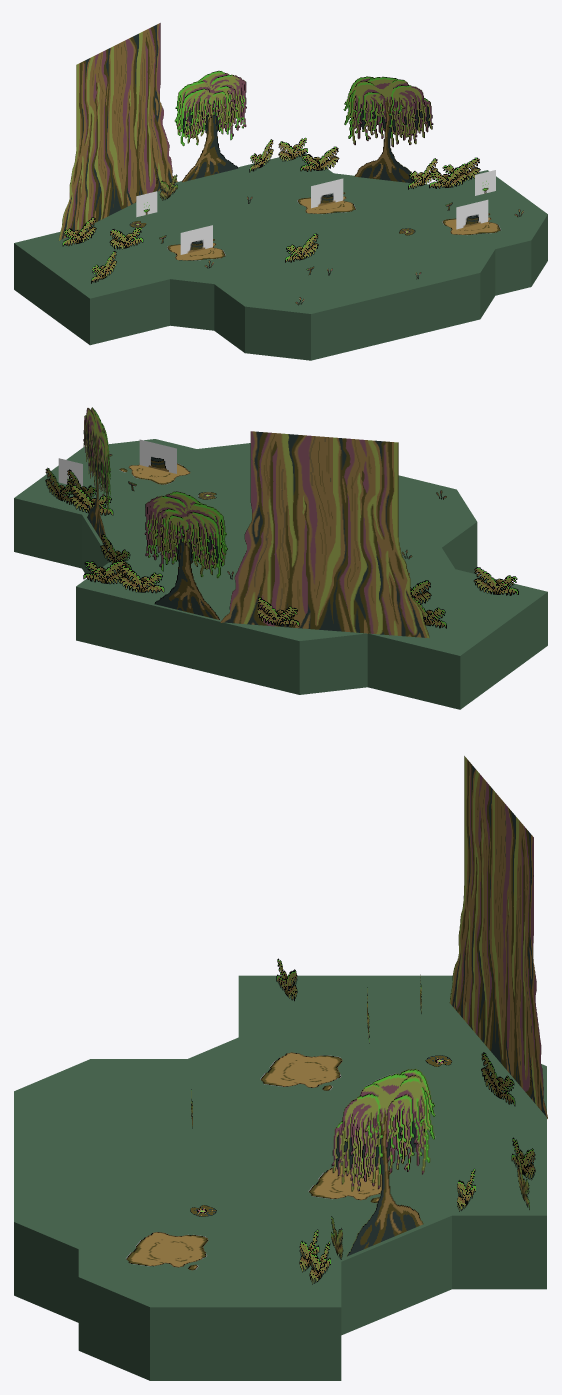
The model's file is Nivel4.fbx.
The picture shows the model from 3 angles, top to bottom: view 1: azimuth 30°, elevation 25°; view 2: azimuth 150°, elevation 25°; view 3: azimuth 270°, elevation 25°; orthographic projection. The views are drawn at different scales.
Visible parts, largest first — view 1: Base.005, Sequoia.002, Arbol 1.003, Arbol 2.003, Barril 1.008, Barril 1.010, Barril 1.009, Helecho.036, Barro 1.010, Barro 1.009, Barro 1.008, Helecho.035 (+7 smaller); view 2: Base.005, Sequoia.002, Arbol 2.003, Arbol 1.003, Barril 1.009, Helecho.054, Helecho.038, Barro 1.009, Helecho.040, Helecho.037, Helecho.034, Flor curativa.010 (+3 smaller); view 3: Base.005, Sequoia.002, Arbol 1.003, Barro 1.010, Barro 1.009, Barro 1.008, Helecho.039.
Part boxes in pixels (left/top/right/bottom): Base.005: left=14, top=153, right=547, bottom=360; Sequoia.002: left=58, top=23, right=177, bottom=240; Arbol 1.003: left=343, top=76, right=433, bottom=182; Arbol 2.003: left=174, top=70, right=246, bottom=182; Barril 1.008: left=311, top=178, right=343, bottom=208; Barril 1.010: left=180, top=225, right=212, bottom=254; Barril 1.009: left=456, top=199, right=488, bottom=229; Helecho.036: left=300, top=146, right=339, bottom=171; Barro 1.010: left=167, top=239, right=225, bottom=260; Barro 1.009: left=442, top=213, right=500, bottom=235; Barro 1.008: left=297, top=192, right=355, bottom=214; Helecho.035: left=429, top=163, right=468, bottom=188; Base.005: left=14, top=439, right=547, bottom=709; Sequoia.002: left=220, top=431, right=429, bottom=638; Arbol 2.003: left=144, top=491, right=227, bottom=619; Arbol 1.003: left=83, top=407, right=110, bottom=546; Barril 1.009: left=139, top=439, right=176, bottom=473; Helecho.054: left=473, top=567, right=518, bottom=595; Helecho.038: left=118, top=565, right=164, bottom=593; Barro 1.009: left=119, top=463, right=190, bottom=484; Helecho.040: left=257, top=597, right=299, bottom=627; Helecho.037: left=83, top=559, right=126, bottom=584; Helecho.034: left=69, top=485, right=113, bottom=515; Flor curativa.010: left=58, top=458, right=82, bottom=486; Base.005: left=14, top=975, right=546, bottom=1380; Sequoia.002: left=449, top=756, right=547, bottom=1118; Arbol 1.003: left=331, top=1068, right=435, bottom=1256; Barro 1.010: left=260, top=1052, right=342, bottom=1090; Barro 1.009: left=126, top=1232, right=208, bottom=1270; Barro 1.008: left=308, top=1165, right=390, bottom=1202; Helecho.039: left=481, top=1052, right=515, bottom=1106.
Size of the model in its own units: 1930 by 918 by 1314.
35 materials, 34 textured.
